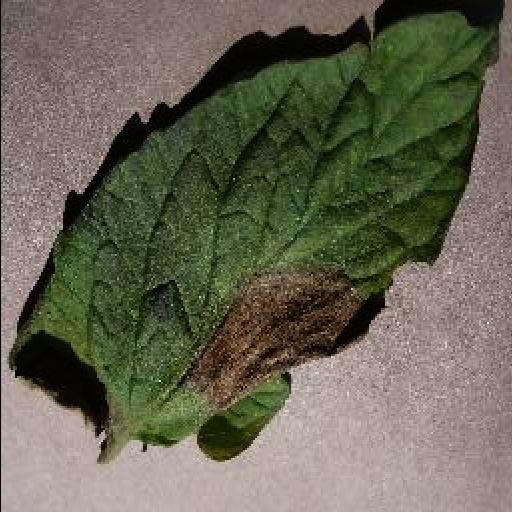disease_tomato: (2, 4, 508, 466)
